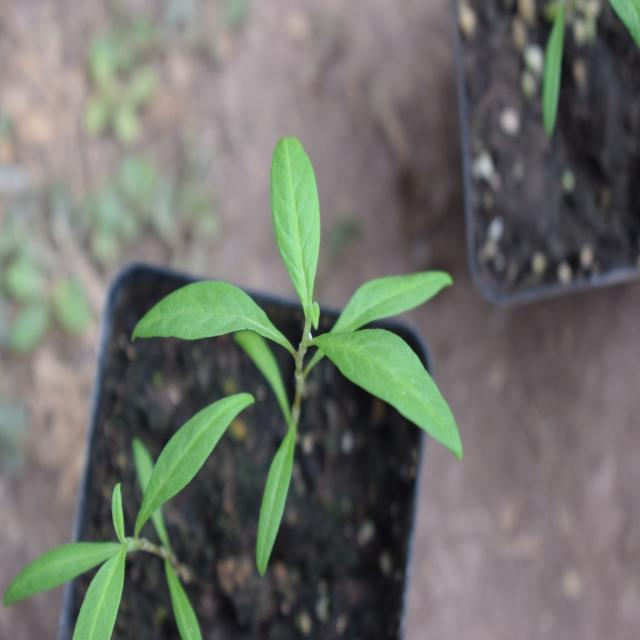white_smart_weed: (147, 152, 515, 526), (15, 392, 272, 640)
